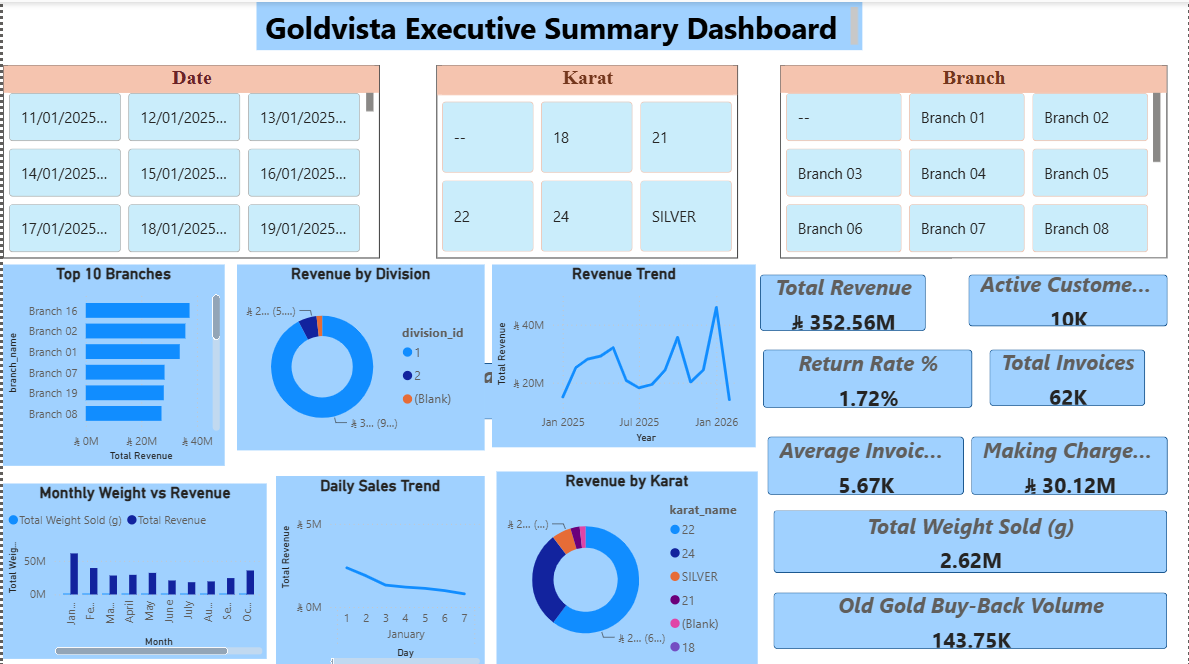

The page's visual inventory and layout, read from the dashboard file:
{"tool":"powerbi","page":{"name":"Executive Overview","canvas":[1280,720],"ordinal":0},"visuals":[{"type":"cardVisual","fields":{"Data":["Date.Total Revenue"]},"box":[799.9,276.9,213.7,95.5],"z":0},{"type":"cardVisual","fields":{"Data":["Date.Total Weight Sold"]},"box":[814.5,531.1,459.9,102],"z":1000},{"type":"cardVisual","fields":{"Data":["Date.Return Rate %"]},"box":[803.1,357.8,260.7,97.2],"z":2000},{"type":"textbox","box":[273.6,0,654.2,51.8],"z":3000},{"type":"advancedSlicerVisual","title":"Branch","fields":{"Values":["public dim_branch.branch_name"]},"box":[838.8,68,417.8,208.9],"z":4000},{"type":"advancedSlicerVisual","title":"Karat","fields":{"Values":["public dim_karat.karat_name"]},"box":[468,68,325.5,208.9],"z":5000},{"type":"cardVisual","fields":{"Data":["Customer First Purchase.Total Invoices"]},"box":[1047.6,357.8,202.4,95.5],"z":6000},{"type":"cardVisual","fields":{"Data":["Customer First Purchase.Average Invoice Value"]},"box":[1025,455,249.4,93.9],"z":7000},{"type":"cardVisual","fields":{"Data":["Customer First Purchase.Active Customers (90d)"]},"box":[1025,276.9,249.4,90.7],"z":8000},{"type":"advancedSlicerVisual","fields":{"Values":["Date.Date"]},"box":[0,68,406.4,208.9],"z":9000},{"type":"cardVisual","fields":{"Data":["Customer First Purchase.Old Gold Buy-Back Volume"]},"box":[814.5,620.2,459.9,95.5],"z":10000},{"type":"lineChart","title":"Revenue Trend","fields":{"Y":["Date.Total Revenue"],"Category":["Date.Date.Variation.Date Hierarchy.Year","Date.Date.Variation.Date Hierarchy.Month"]},"box":[527.9,283.4,285,197.5],"z":12000},{"type":"donutChart","title":"Revenue by Karat","fields":{"Category":["public dim_karat.karat_name"],"Y":["Date.Total Revenue"]},"box":[532.7,506.8,281.7,213.7],"z":13000},{"type":"clusteredBarChart","title":"Top 10 Branches","fields":{"Category":["public dim_branch.branch_name"],"Y":["Date.Total Revenue"]},"box":[0,283.4,239,217.1],"z":14000},{"type":"lineChart","title":"Daily Sales Trend","fields":{"Y":["Date.Total Revenue"],"Category":["Date.Date.Variation.Date Hierarchy.Month","Date.Date.Variation.Date Hierarchy.Day"]},"box":[294.7,511.7,225.1,209.1],"z":15000},{"type":"donutChart","title":"Revenue by Division","fields":{"Category":["public dim_karat.division_id"],"Y":["Date.Total Revenue"]},"box":[252.6,283.4,267.2,200.8],"z":16000},{"type":"lineClusteredColumnComboChart","title":"Monthly Weight vs Revenue","fields":{"Y":["Date.Total Weight Sold (g)","Date.Total Revenue"],"Category":["Date.Date.Variation.Date Hierarchy.Month"]},"box":[0,519.8,285,189.4],"z":17000},{"type":"cardVisual","fields":{"Data":["Customer First Purchase.Making Charge Revenue"]},"box":[814.5,453.4,233.2,95.5],"z":18000}]}

Visuals, with their boxes in screenshot pixels (x1, y1, x2, y2), scaled from the page's 1280x720 canvas onto the 1189x664 screenshot:
cardVisual - Date.Total Revenue: <box>743,255,942,343</box>
cardVisual - Date.Total Weight Sold: <box>757,490,1184,584</box>
cardVisual - Date.Return Rate %: <box>746,330,988,420</box>
textbox: <box>254,0,862,48</box>
"Branch" advancedSlicerVisual: <box>779,63,1167,255</box>
"Karat" advancedSlicerVisual: <box>435,63,737,255</box>
cardVisual - Customer First Purchase.Total Invoices: <box>973,330,1161,418</box>
cardVisual - Customer First Purchase.Average Invoice Value: <box>952,420,1184,506</box>
cardVisual - Customer First Purchase.Active Customers (90d): <box>952,255,1184,339</box>
advancedSlicerVisual - Date.Date: <box>0,63,378,255</box>
cardVisual - Customer First Purchase.Old Gold Buy-Back Volume: <box>757,572,1184,660</box>
"Revenue Trend" lineChart: <box>490,261,755,443</box>
"Revenue by Karat" donutChart: <box>495,467,757,663</box>
"Top 10 Branches" clusteredBarChart: <box>0,261,222,462</box>
"Daily Sales Trend" lineChart: <box>274,472,483,663</box>
"Revenue by Division" donutChart: <box>235,261,483,447</box>
"Monthly Weight vs Revenue" lineClusteredColumnComboChart: <box>0,479,265,654</box>
cardVisual - Customer First Purchase.Making Charge Revenue: <box>757,418,973,506</box>
